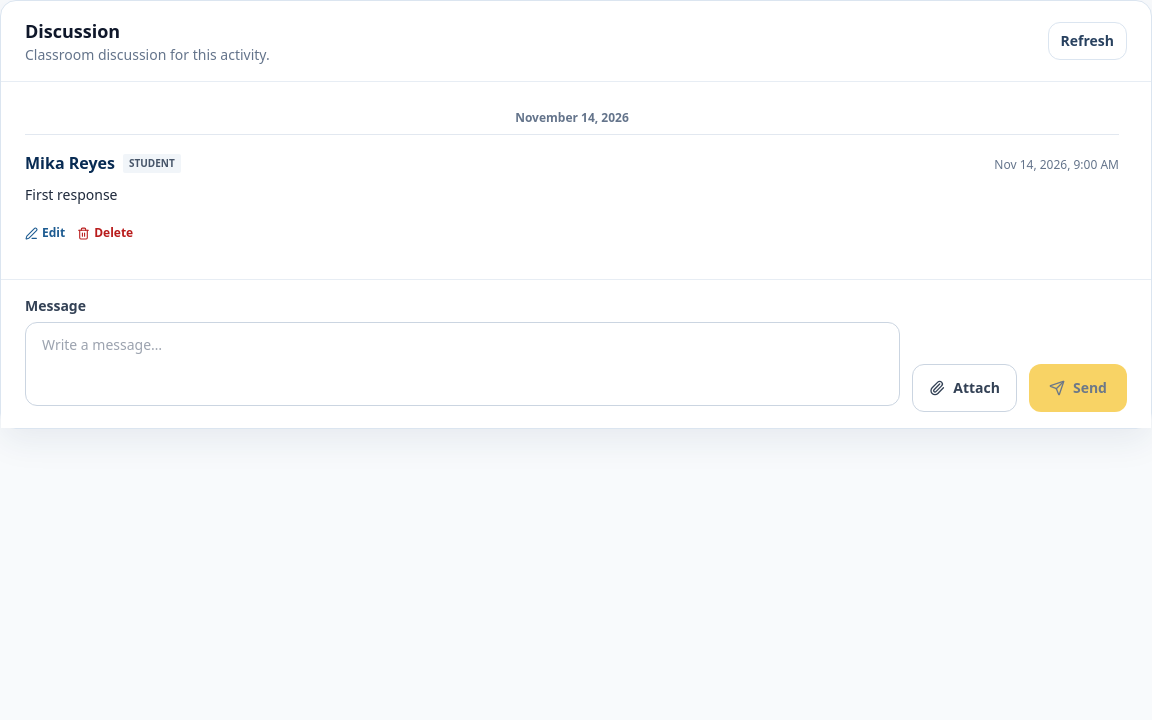
ActivityDiscussion › shows a confirmed instructor post immediately in chronological thread order
Check: the text "First response" is shown, box [25, 185, 118, 204]
Check: the text "Classroom discussion for this activity." is shown, box [25, 45, 270, 65]
Type "Review the attached notes." into the text box labelled "Message" at (463, 364), box [25, 322, 900, 406]
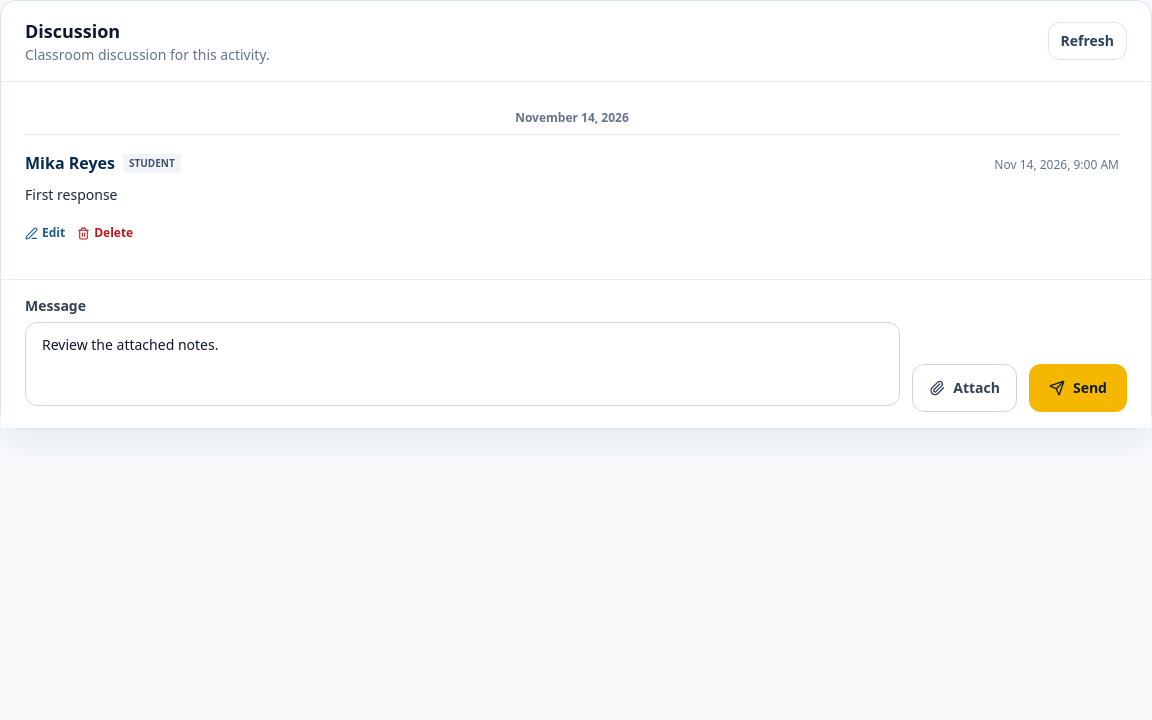
Click the button "Send" at (1078, 388), box [1029, 364, 1127, 412]
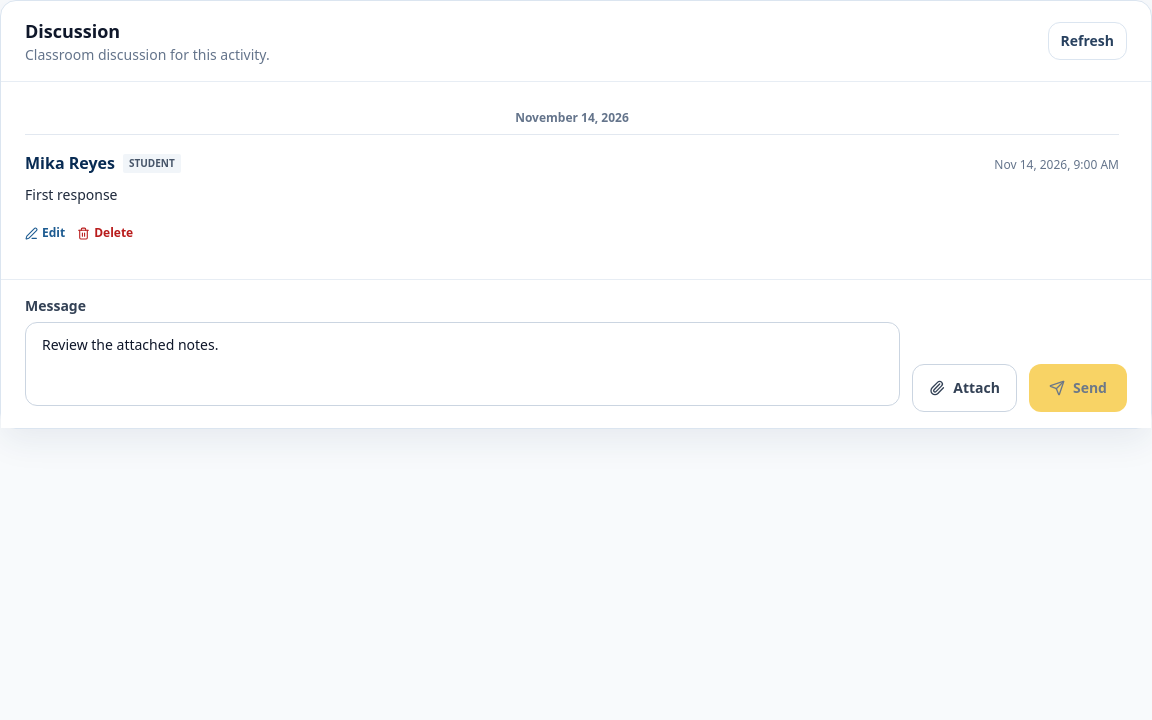
Click the button "Send" at (1078, 388), box [1029, 364, 1127, 412]
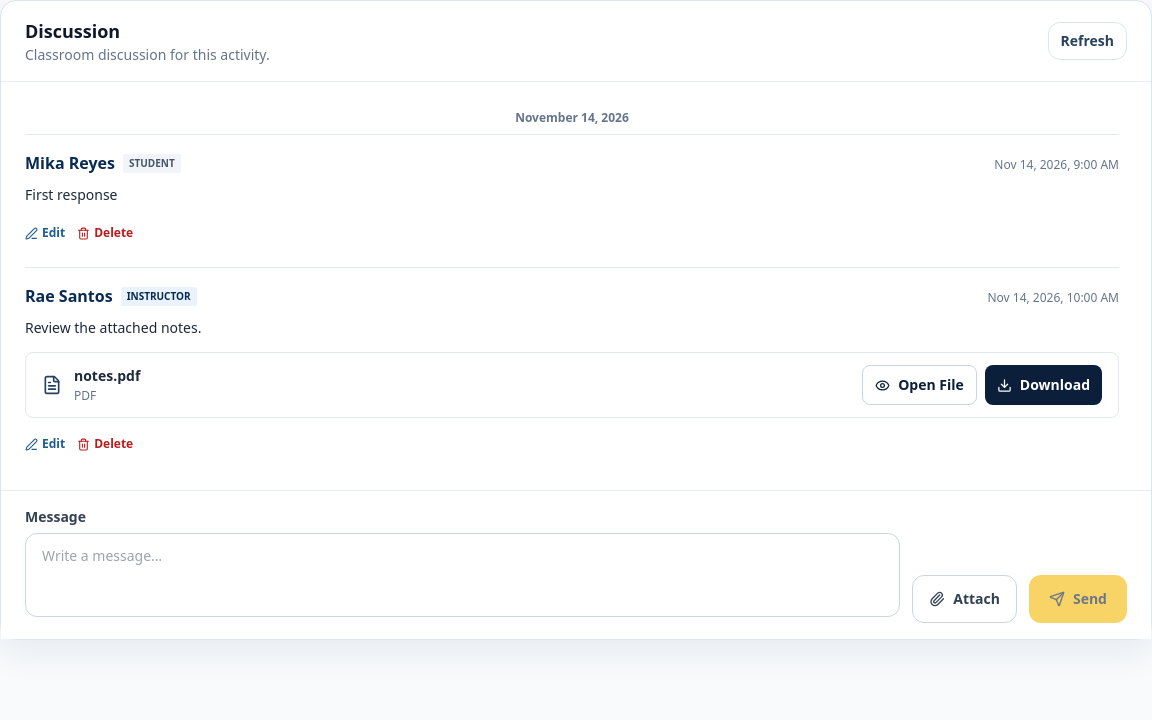
Check: the text "notes.pdf" is shown, box [74, 366, 140, 386]
Check: the button "Open File" is shown, box [862, 365, 977, 405]
Check: the button "Download" is shown, box [985, 365, 1102, 405]
